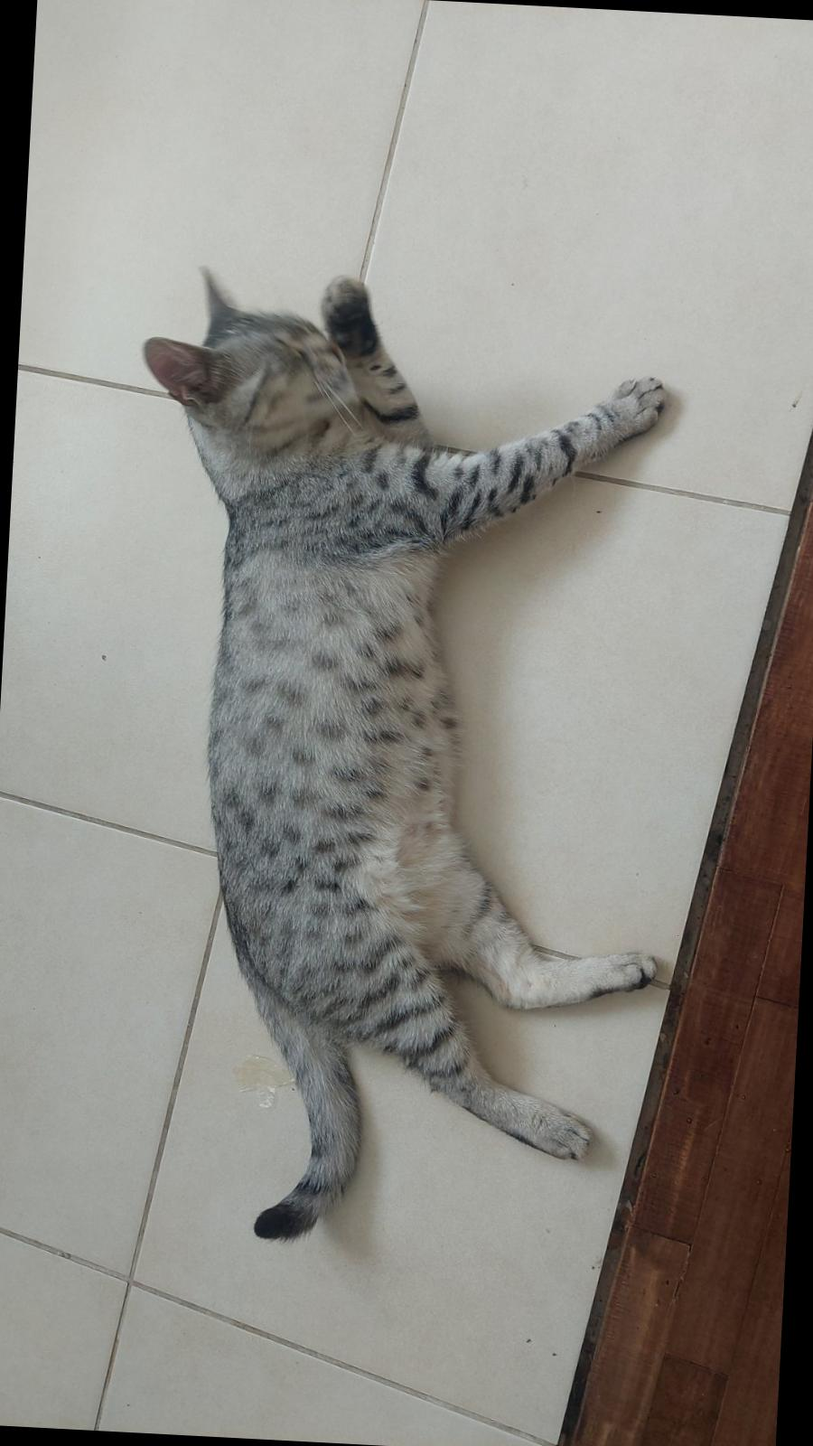macka: (97, 261, 696, 1259)
